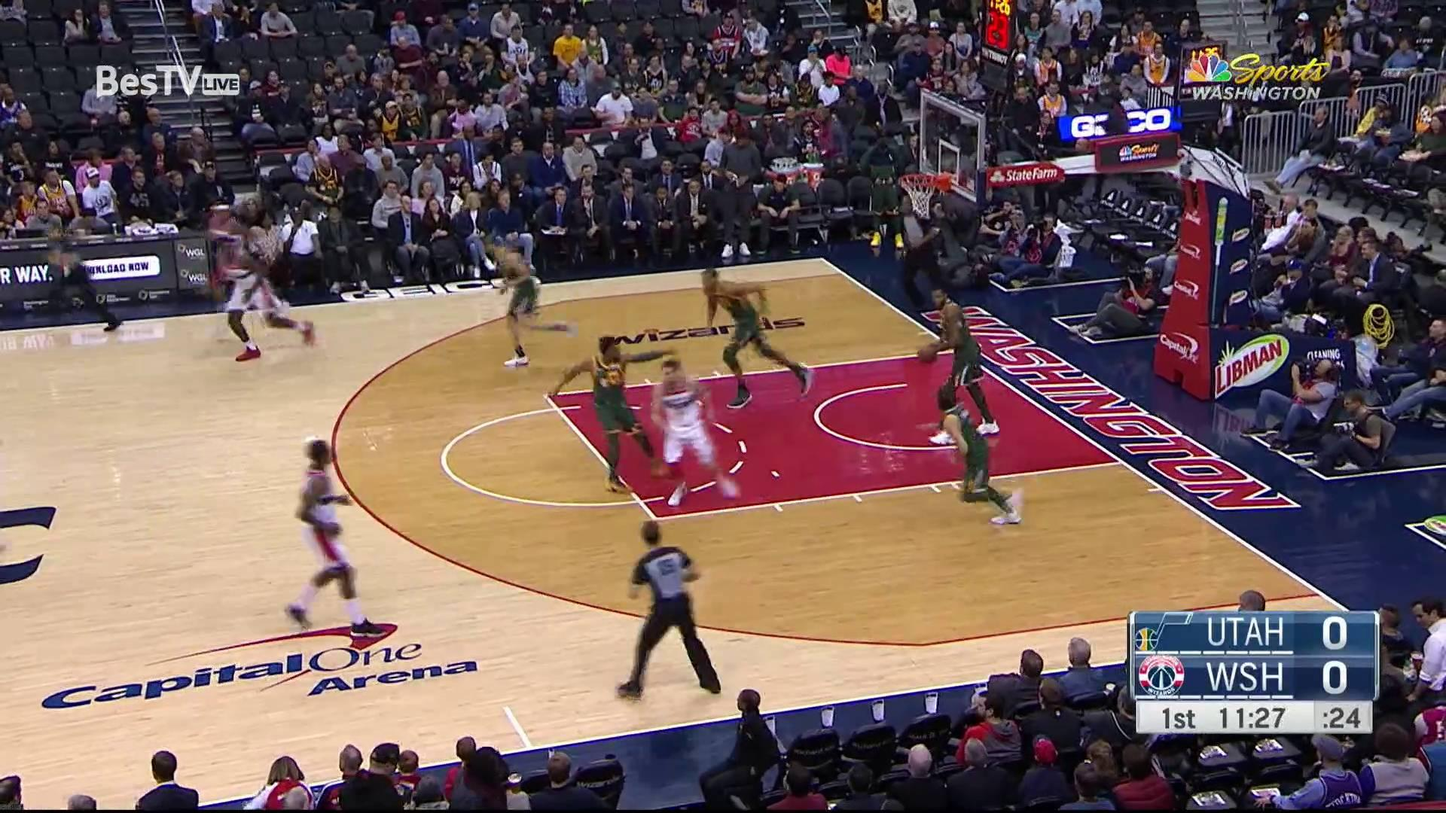basketball: (918, 344, 939, 366)
